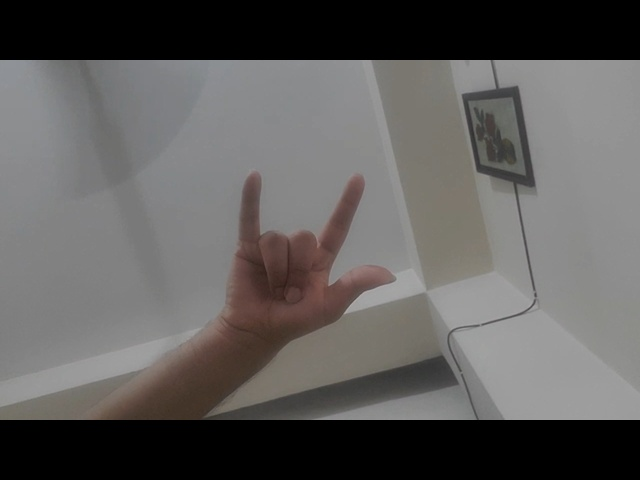I love you: (189, 153, 403, 376)
